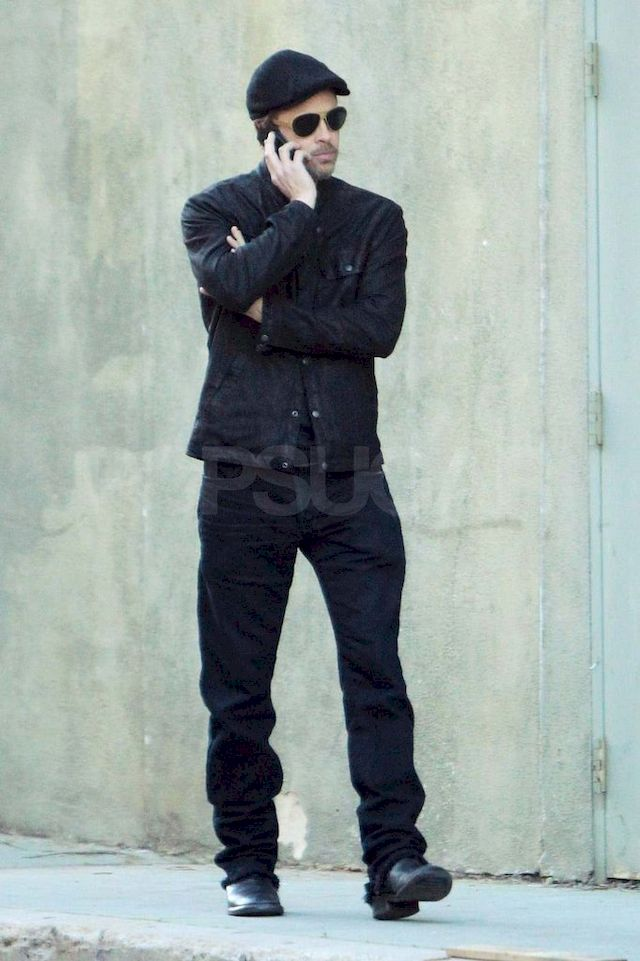phone: (256, 129, 313, 168)
talk: (254, 106, 345, 193)
